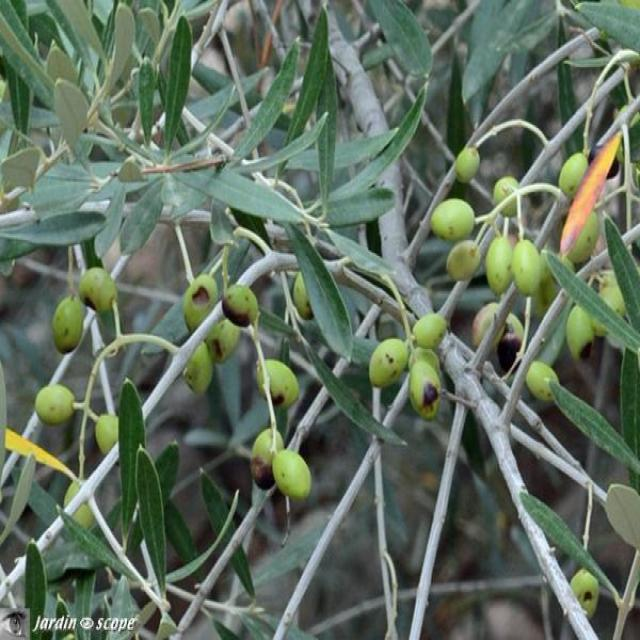Olive Fruit Fly: (182, 273, 218, 332), (51, 297, 84, 354), (369, 339, 407, 387), (510, 239, 541, 297), (430, 199, 474, 239), (484, 234, 512, 295), (79, 268, 116, 313), (34, 384, 74, 425), (410, 361, 439, 417), (223, 284, 257, 326), (250, 429, 272, 489)
